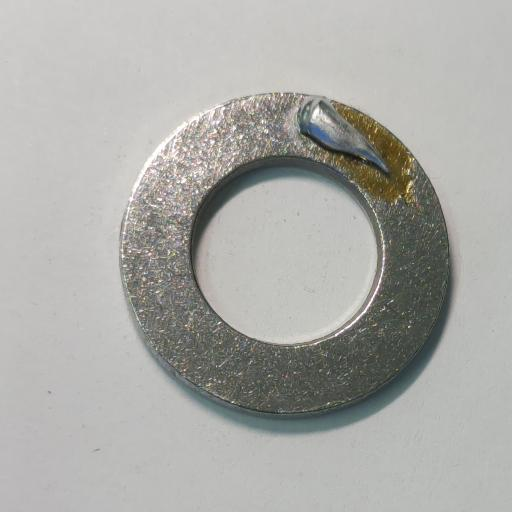excess_material: (297, 95, 391, 173)
